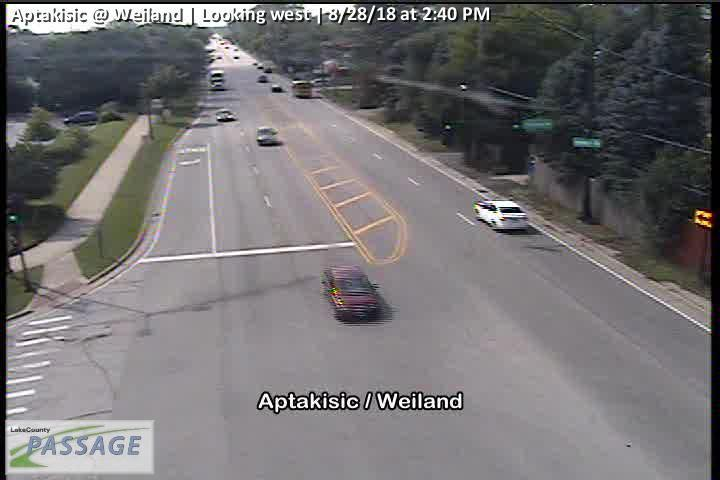Bus: (291, 79, 313, 98)
SUV: (64, 111, 95, 126)
Sedan: (321, 265, 379, 322), (473, 199, 529, 231), (255, 125, 282, 147), (215, 109, 236, 122)
